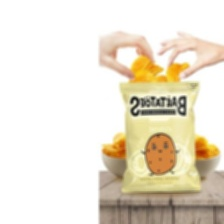snack: (114, 77, 207, 198)
